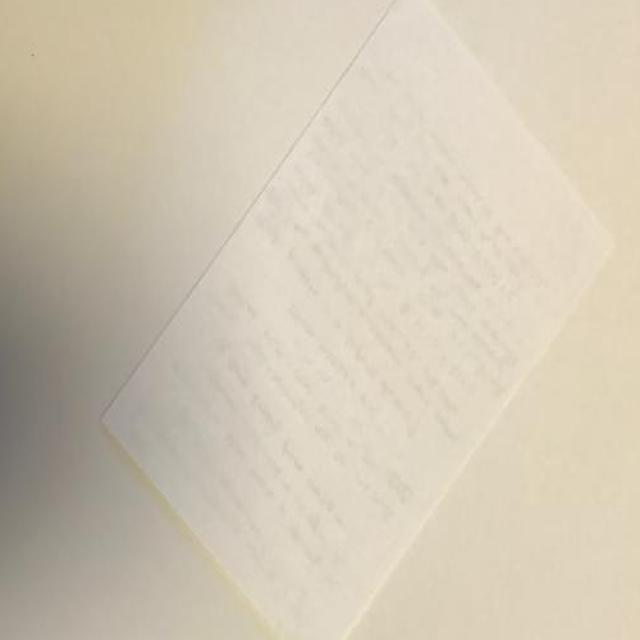kertas: (98, 0, 618, 640)
